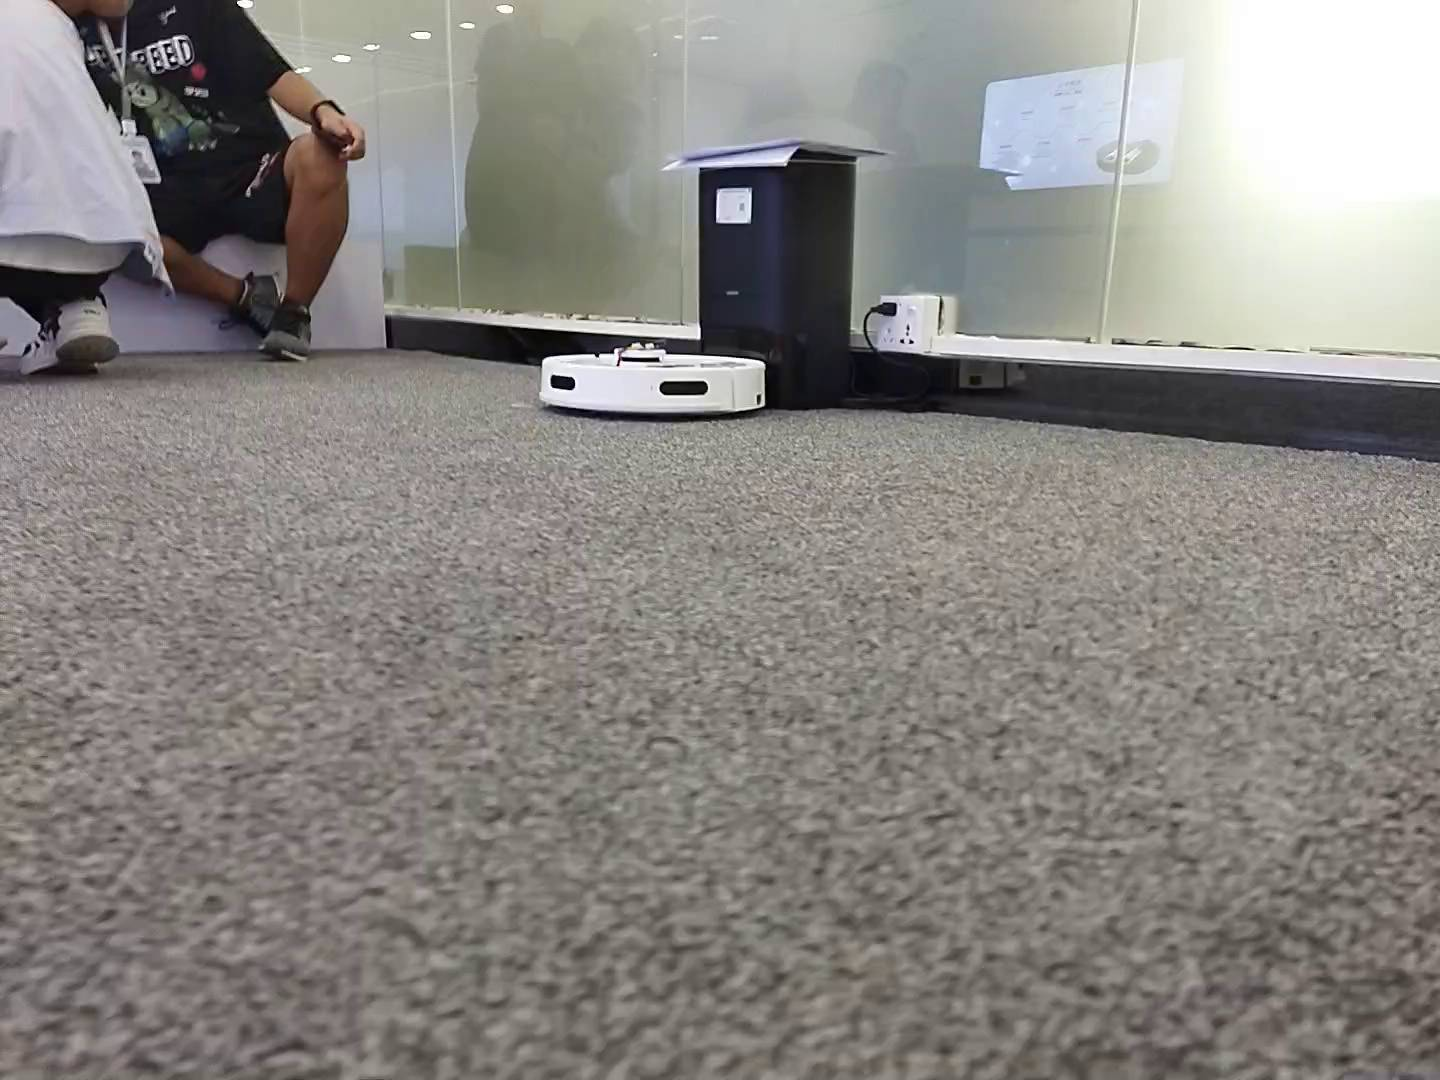dust collecting barrel: (698, 155, 855, 406)
